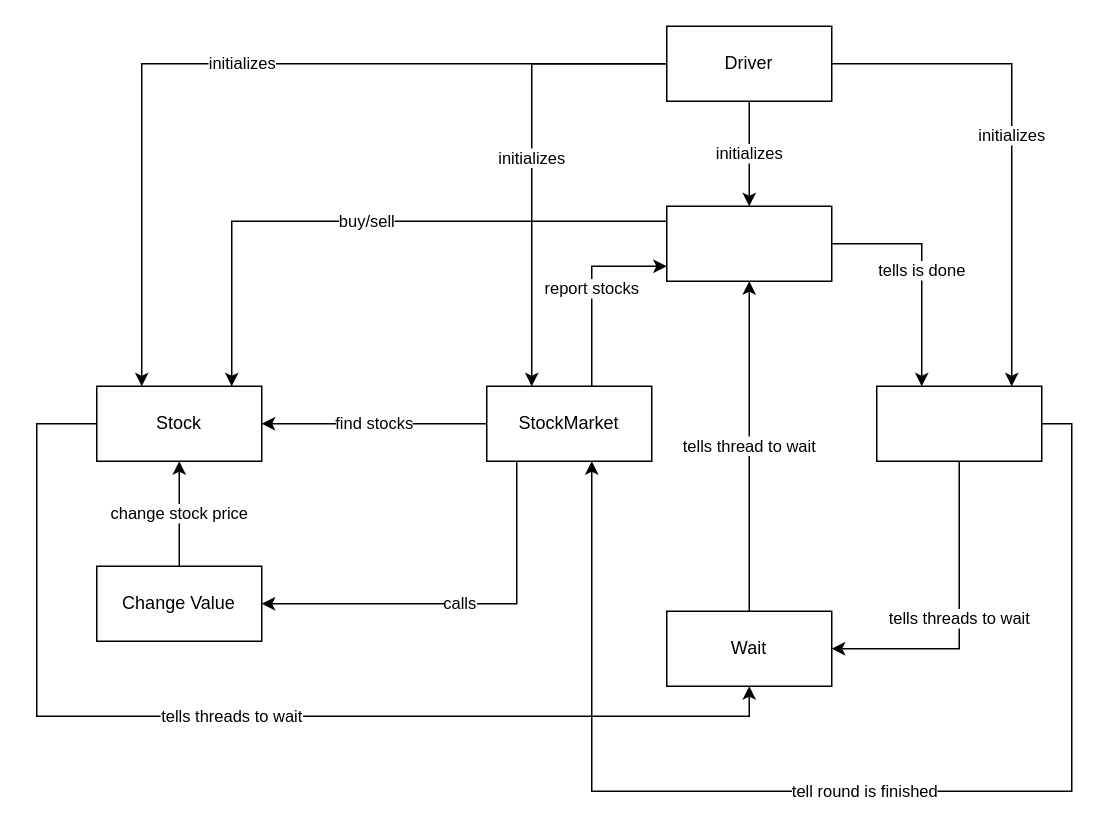
Image size: 1110x830. Some labels were removed from this diagram. The shapes that lost their labels are listed below. From the top down, each one's centre as x and y in pixels, then its label:
At [748,243]: "Investor".
At [958,423]: "Round".
